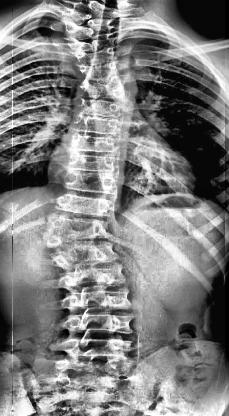Vertebrae: (55, 356, 129, 384), (64, 310, 132, 340), (47, 242, 112, 271), (54, 190, 119, 218), (63, 289, 130, 315), (58, 166, 118, 194), (61, 337, 131, 361), (60, 266, 120, 292), (46, 216, 108, 240), (60, 132, 121, 156), (67, 113, 127, 137), (62, 20, 119, 42), (62, 150, 119, 172), (76, 78, 132, 100), (71, 96, 127, 118), (63, 5, 124, 24), (67, 34, 123, 53), (70, 47, 122, 67), (75, 58, 125, 78)
